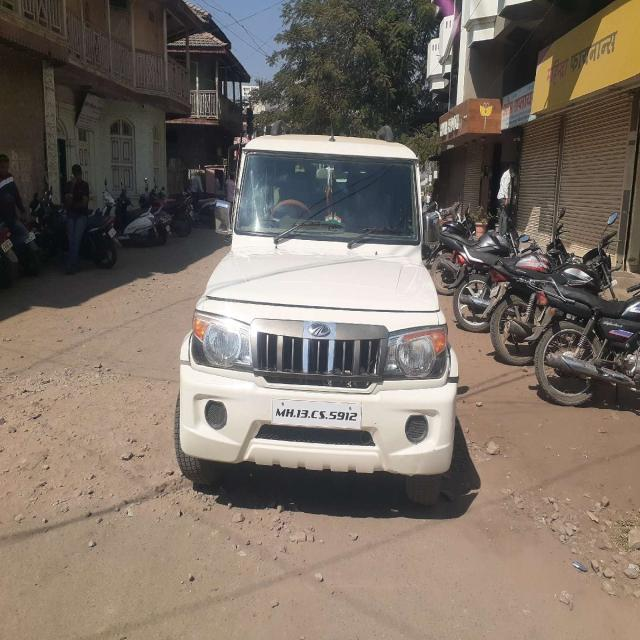light_vehicle: (179, 144, 457, 485)
